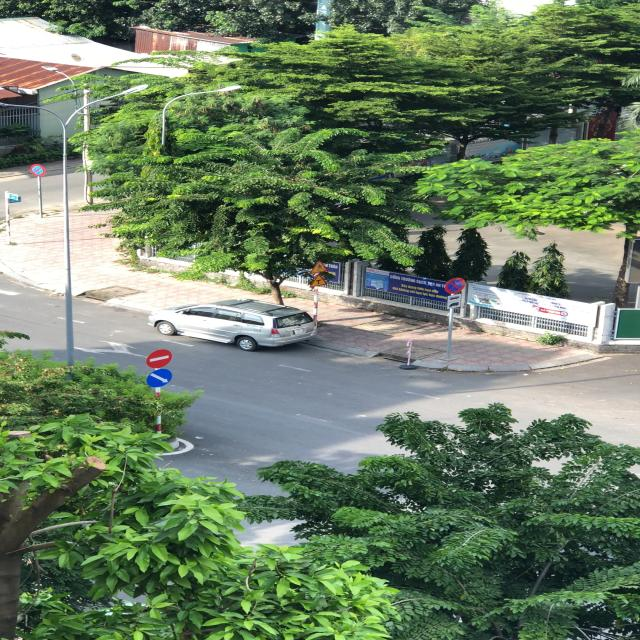Bien bao cam di nguoc chieu: (144, 349, 181, 368)
Bien bao cam dung xe va do xe: (442, 276, 470, 296)
Bien bao duong giao nhau: (307, 274, 329, 288)
Bien bao duong nguoi di bo cat ngang: (306, 260, 332, 272)
Bien bao huong phai di vong chuong ngai vat: (144, 368, 178, 388)
